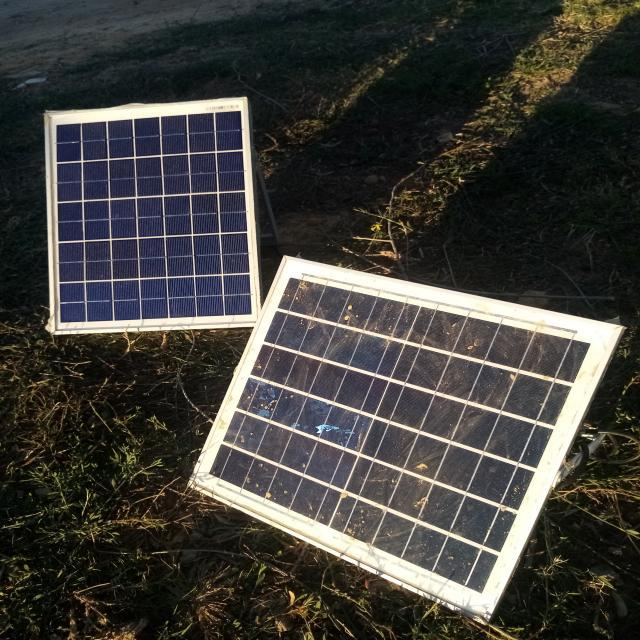faulty: (191, 258, 623, 622)
no faulty: (45, 98, 256, 332)
